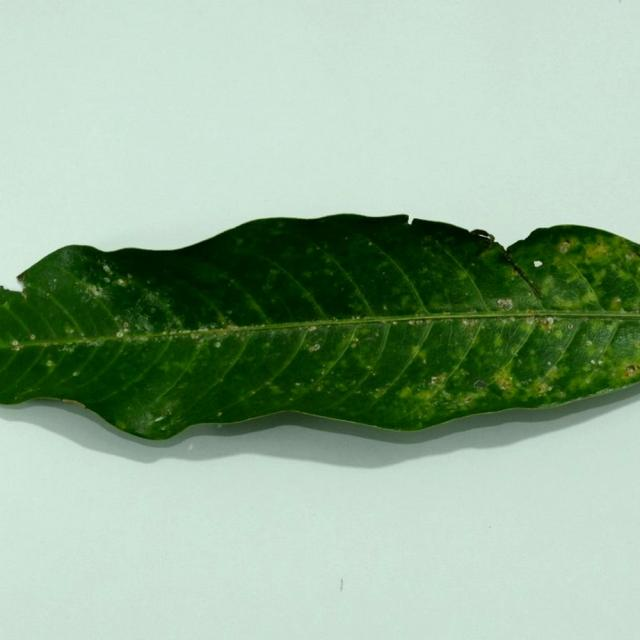Mango: (0, 215, 639, 439)
Powdery_Mildew: (493, 295, 516, 311), (623, 364, 640, 378), (496, 376, 512, 390), (538, 317, 553, 330), (431, 374, 446, 385), (537, 383, 551, 394), (558, 241, 570, 253), (545, 365, 557, 377), (473, 380, 488, 389), (462, 318, 476, 327), (309, 343, 320, 352), (408, 319, 421, 326), (625, 252, 635, 261), (21, 289, 29, 300), (11, 342, 20, 351), (525, 316, 535, 324), (533, 260, 543, 268), (103, 265, 112, 273), (612, 297, 622, 304), (546, 317, 554, 324), (117, 279, 125, 286), (46, 360, 53, 367), (116, 331, 123, 338), (214, 341, 221, 348), (308, 326, 316, 332), (508, 316, 516, 322), (558, 391, 566, 397), (72, 371, 79, 377), (382, 304, 388, 311), (586, 340, 592, 346), (30, 334, 36, 340), (352, 339, 358, 345), (123, 322, 129, 328), (567, 324, 573, 329), (620, 309, 626, 314), (217, 412, 222, 417), (590, 359, 595, 364), (392, 321, 398, 325)
